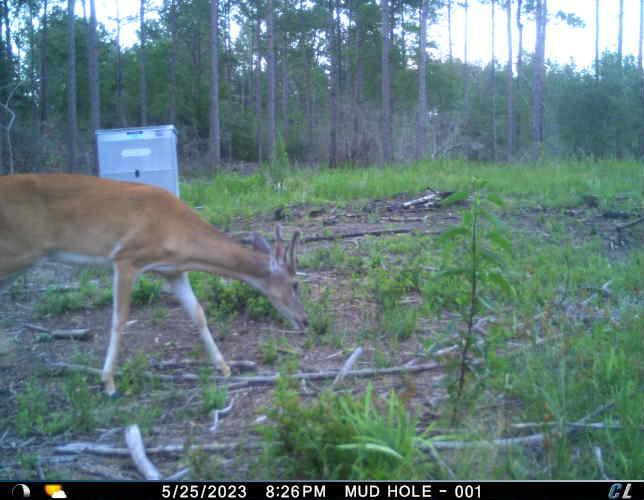Deer: (0, 167, 311, 404)
